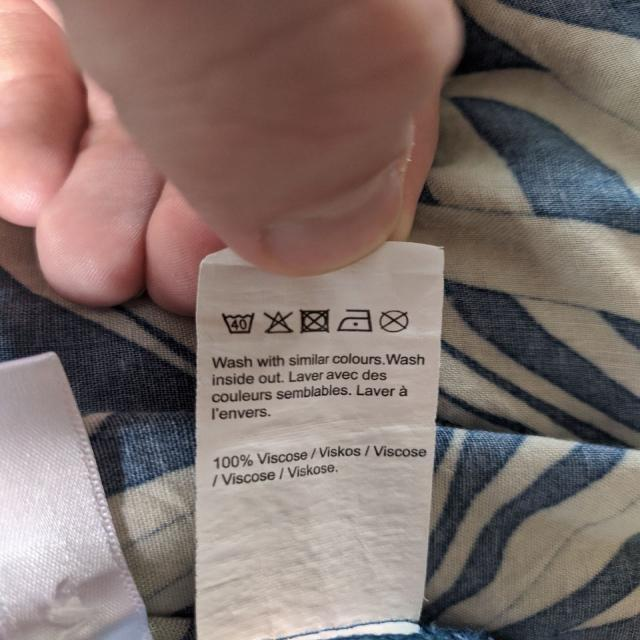40C: (221, 306, 256, 338)
DN_bleach: (259, 309, 297, 337)
DN_dry_clean: (378, 306, 411, 334)
DN_tumble_dry: (298, 304, 334, 338)
iron_low: (336, 304, 376, 336)
